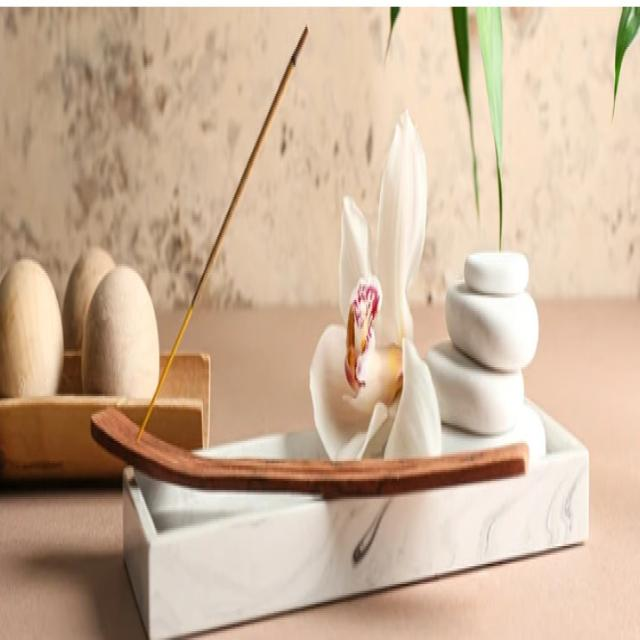Agarbatti: (137, 19, 315, 444)
